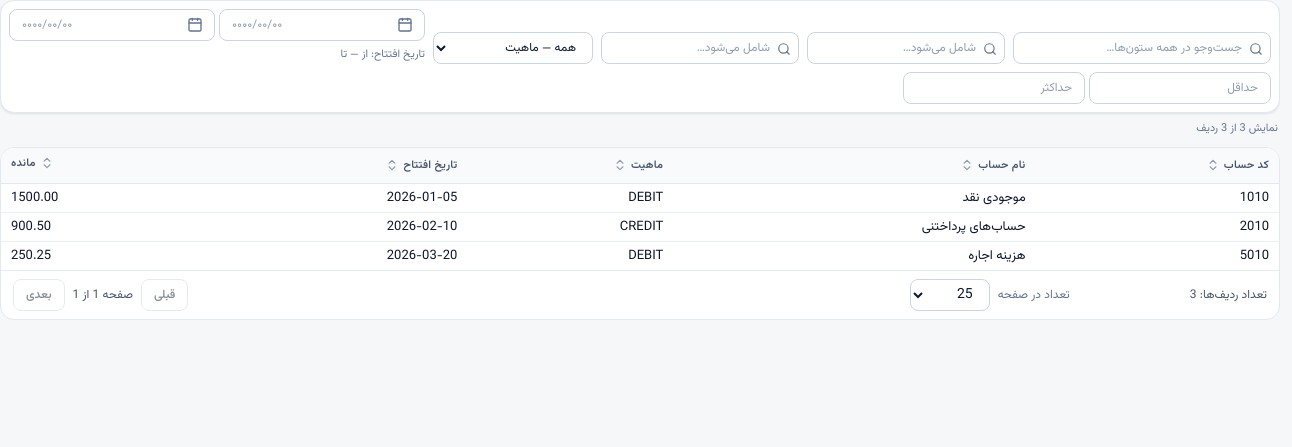
it: DataTable client mode — empty and reset › shows the distinct no-match state and restores rows on reset
Step 1. Type "یافت‌نشدنی" into the search field named "نام حساب" → (700, 48), box [601,32,799,64]
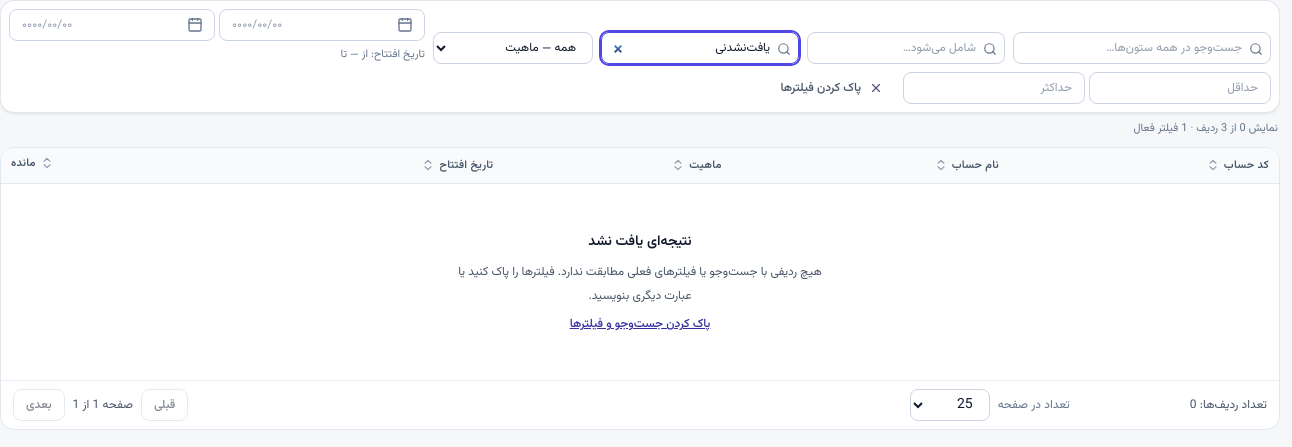
Expected: the element with test id "data-table-empty" shows "نتیجه‌ای یافت نشد", [588,231,692,253]
Expected: the element with test id "data-table-empty" shows "هیچ ردیفی با جست‌وجو یا فیلترهای فعلی مطابقت ندارد. فیلترها را پاک کنید یا عبارت دیگری بنویسید.", [458,263,822,305]
Step 2. Click the button with test id "data-table-clear-filters" → (640, 324), box [570,316,710,332]
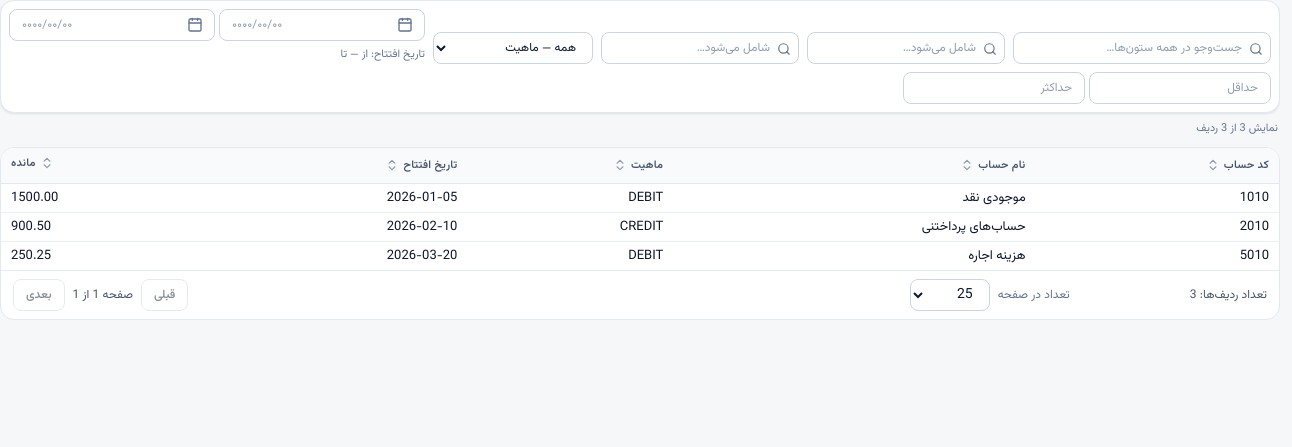
Expected: the text "موجودی نقد" is shown, [673,184,1036,213]
Expected: the element with test id "data-table-empty" is gone
